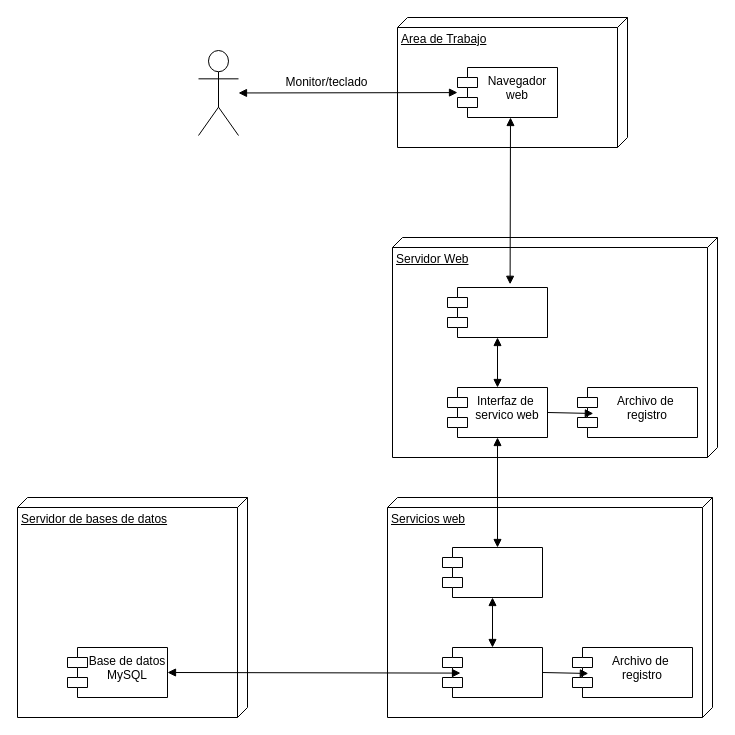
This 735x735 diagram has some shape labels left out. The centre of each missing label's shape, as x and y in pixels:
"Gestión de datos" goes at point 492,672.
"Interfaz web" goes at point 497,312.
"Objeto de negocio" goes at point 492,572.
"Usuario" goes at point 218,93.
